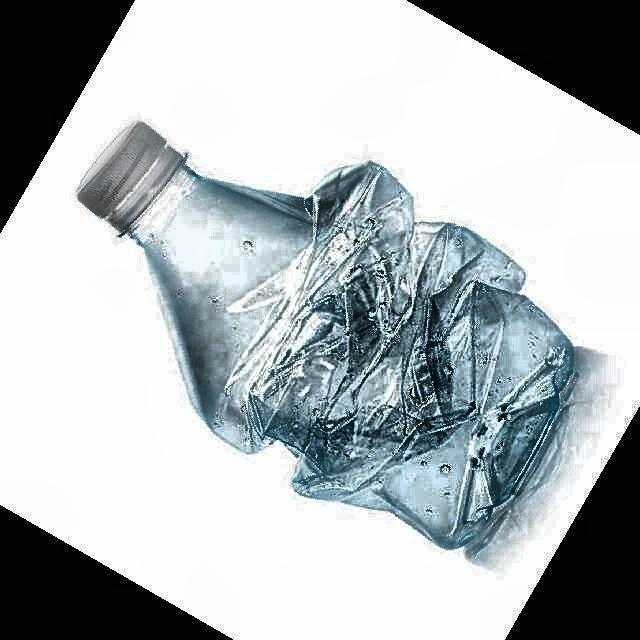plastic: (78, 122, 575, 551)
